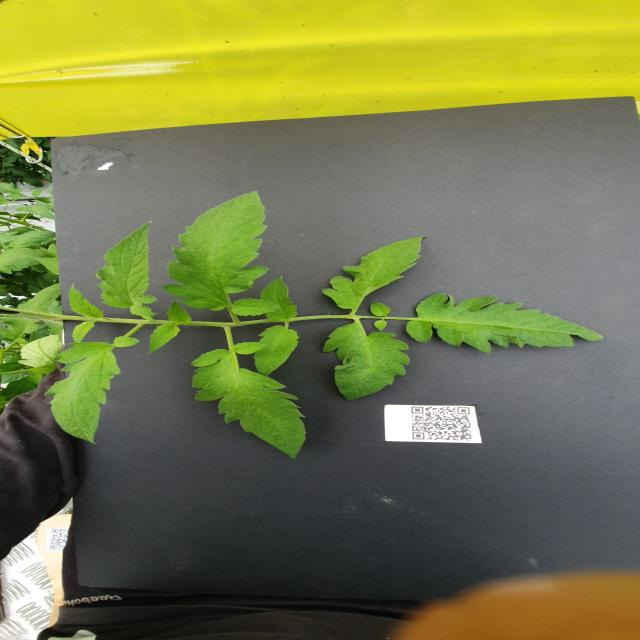Healthy Leaf: (189, 341, 308, 459), (163, 190, 270, 311), (406, 292, 605, 354), (321, 235, 428, 310), (50, 341, 122, 448), (324, 323, 409, 402), (95, 221, 157, 316), (254, 325, 299, 376), (261, 275, 298, 321), (69, 282, 106, 318), (230, 297, 282, 317), (148, 324, 181, 354), (166, 300, 193, 323), (72, 321, 95, 343)
